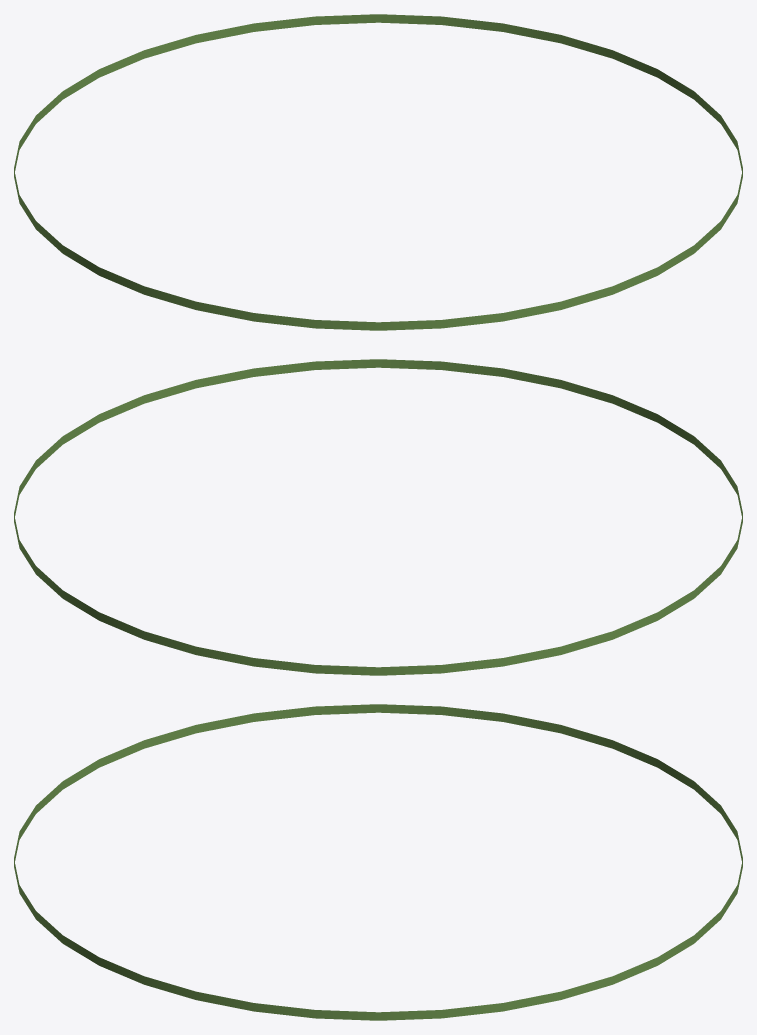
Rendered from Disc_3_perimetr.fbx.
3 renders of one model, top to bottom at view 1: azimuth 30°, elevation 25°; view 2: azimuth 150°, elevation 25°; view 3: azimuth 270°, elevation 25°, orthographic.
Parts seen in each view (by area): view 1: polySurface113; view 2: polySurface113; view 3: polySurface113.
Part boxes in pixels (x1,y1,x2,y2): polySurface113: (14,14,742,330); polySurface113: (14,359,742,675); polySurface113: (14,704,742,1020).
Size of the model in its own units: 8.13 by 0.1053 by 8.13.
